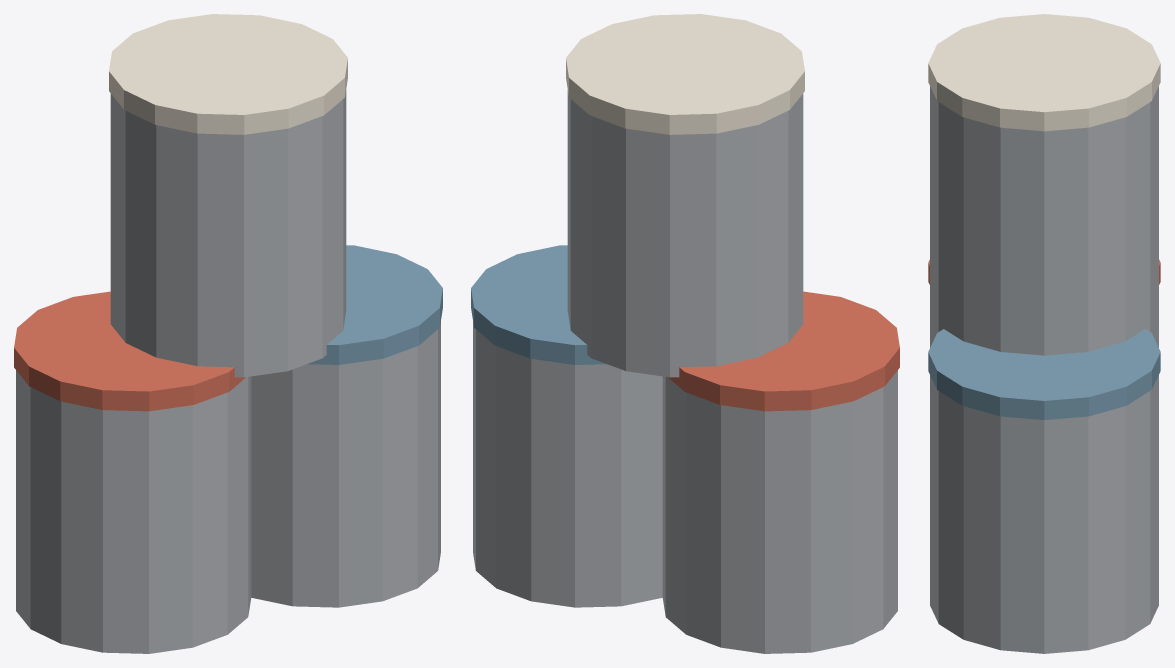
File: hh_paint_tins.glb
The picture shows the model from 3 angles, left to right: view 1: azimuth 30°, elevation 25°; view 2: azimuth 150°, elevation 25°; view 3: azimuth 270°, elevation 25°; orthographic projection. The views are drawn at different scales.
Visible parts, largest first — view 1: tin, tin.002, tin.001, lid.002, lid, lid.001; view 2: tin, tin.002, tin.001, lid.002, lid, lid.001; view 3: tin.001, tin.002, lid.002, lid.001.
Part boxes in pixels (bbox=[...]): tin: bbox=[16, 370, 251, 653]; tin.002: bbox=[110, 90, 346, 377]; tin.001: bbox=[251, 322, 440, 607]; lid.002: bbox=[109, 14, 347, 134]; lid: bbox=[14, 291, 245, 411]; lid.001: bbox=[307, 245, 442, 364]; tin: bbox=[662, 370, 897, 653]; tin.002: bbox=[567, 90, 803, 377]; tin.001: bbox=[473, 322, 662, 607]; lid.002: bbox=[566, 14, 804, 134]; lid: bbox=[668, 291, 899, 411]; lid.001: bbox=[471, 245, 606, 364]; tin.001: bbox=[930, 375, 1158, 653]; tin.002: bbox=[930, 86, 1158, 355]; lid.002: bbox=[928, 14, 1160, 131]; lid.001: bbox=[928, 329, 1160, 419].
Bounding box in the file's own units: 0.252 × 0.312 × 0.132.
